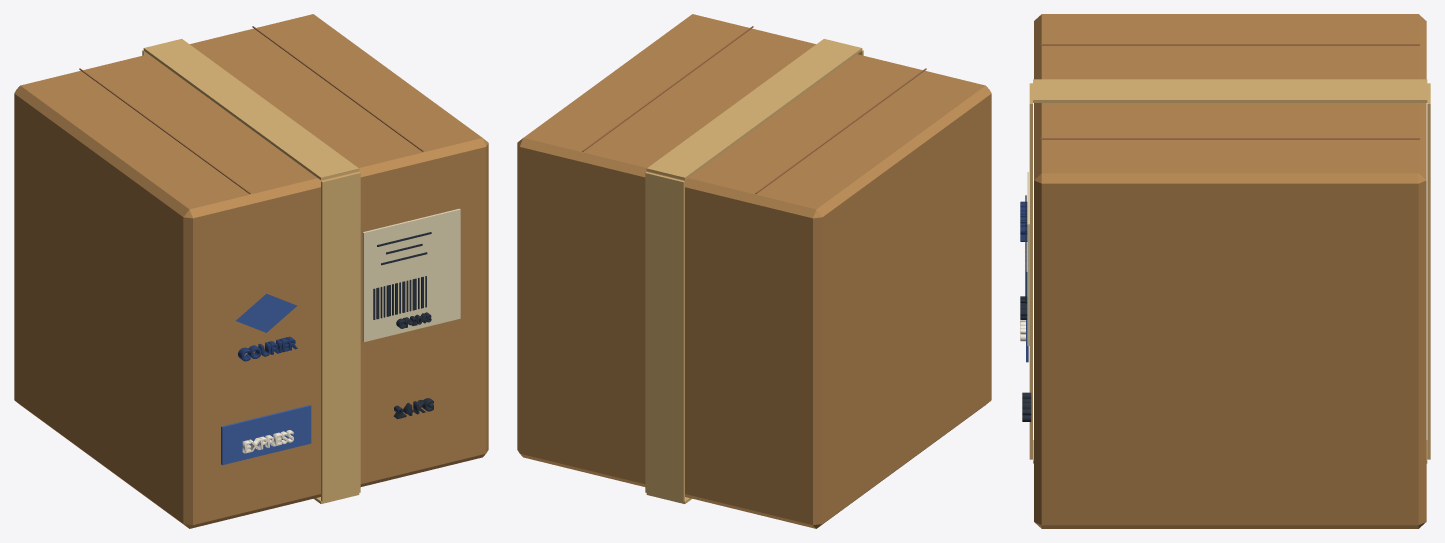
Rendered from prop_parcel_standard.glb.
The picture shows the model from 3 angles, left to right: view 1: azimuth 30°, elevation 25°; view 2: azimuth 150°, elevation 25°; view 3: azimuth 270°, elevation 25°; orthographic projection. The views are drawn at different scales.
Visible parts, largest first — view 1: prop_parcel_standard__Cardboard body, prop_parcel_standard__Tape side -1, prop_parcel_standard__Shipping label, prop_parcel_standard__Top packing tape, prop_parcel_standard__Priority sticker, prop_parcel_standard__Courier emblem, prop_parcel_standard__Courier label, prop_parcel_standard__Priority sticker letters; view 2: prop_parcel_standard__Cardboard body, prop_parcel_standard__Tape side 1, prop_parcel_standard__Top packing tape; view 3: prop_parcel_standard__Cardboard body, prop_parcel_standard__Top packing tape, prop_parcel_standard__Tape side 1, prop_parcel_standard__Tape side -1, prop_parcel_standard__Top fold seam 1, prop_parcel_standard__Top fold seam -1, prop_parcel_standard__Shipping label.
Boxes of the visible parts, x1,y1,x2,y2 form: prop_parcel_standard__Cardboard body: (14, 14, 488, 528); prop_parcel_standard__Tape side -1: (321, 172, 360, 501); prop_parcel_standard__Shipping label: (362, 208, 460, 341); prop_parcel_standard__Top packing tape: (143, 39, 359, 180); prop_parcel_standard__Priority sticker: (221, 405, 311, 465); prop_parcel_standard__Courier emblem: (236, 293, 297, 332); prop_parcel_standard__Courier label: (238, 336, 297, 361); prop_parcel_standard__Priority sticker letters: (242, 430, 293, 453); prop_parcel_standard__Cardboard body: (517, 14, 991, 528); prop_parcel_standard__Tape side 1: (645, 172, 684, 501); prop_parcel_standard__Top packing tape: (646, 39, 862, 180); prop_parcel_standard__Cardboard body: (1034, 14, 1426, 528); prop_parcel_standard__Top packing tape: (1033, 79, 1427, 102); prop_parcel_standard__Tape side 1: (1427, 83, 1430, 459); prop_parcel_standard__Tape side -1: (1029, 83, 1032, 459); prop_parcel_standard__Top fold seam 1: (1040, 138, 1419, 139); prop_parcel_standard__Top fold seam -1: (1040, 44, 1419, 45); prop_parcel_standard__Shipping label: (1027, 172, 1029, 345).
Bounding box in the file's own units: 0.6 × 0.613 × 0.6275.
